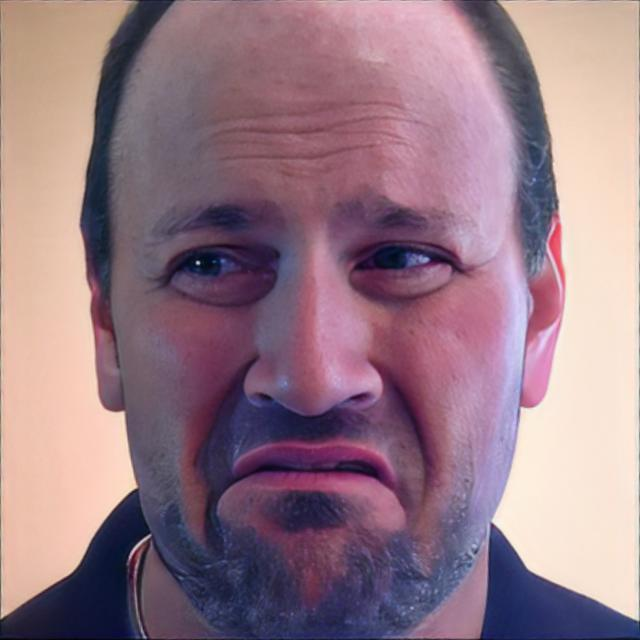disgust: (110, 0, 528, 640)
